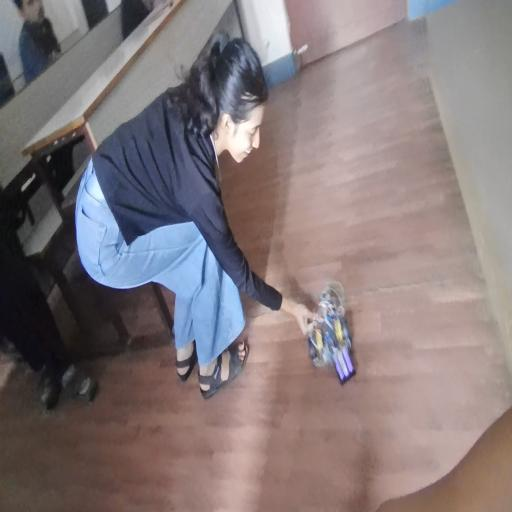car: (311, 285, 351, 388)
